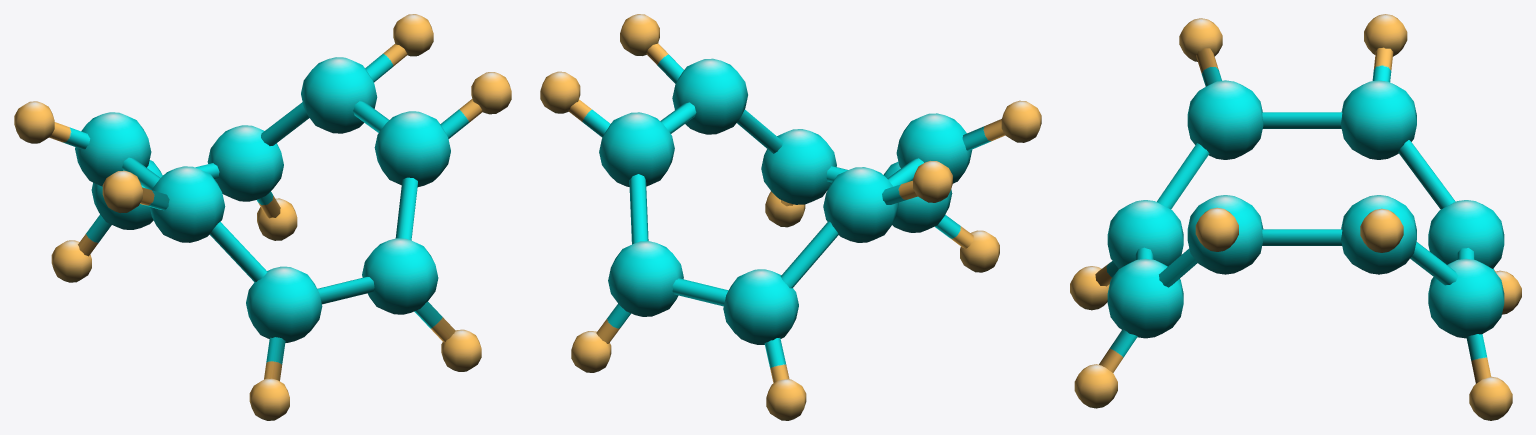
File: Cyclooctatetraene.dae
3 views of the same model, side by side, from view 1: azimuth 30°, elevation 25°; view 2: azimuth 150°, elevation 25°; view 3: azimuth 270°, elevation 25° (orthographic). The views are drawn at different scales.
Visible parts, largest first — view 1: polySurface68; view 2: polySurface68; view 3: polySurface68.
Part boxes in pixels (<box>): polySurface68: <box>14,14,511,420</box>; polySurface68: <box>540,14,1041,420</box>; polySurface68: <box>1070,14,1521,420</box>.
Size of the model in its own units: 4.67 by 2.64 by 4.25.
1 material, 1 textured.
